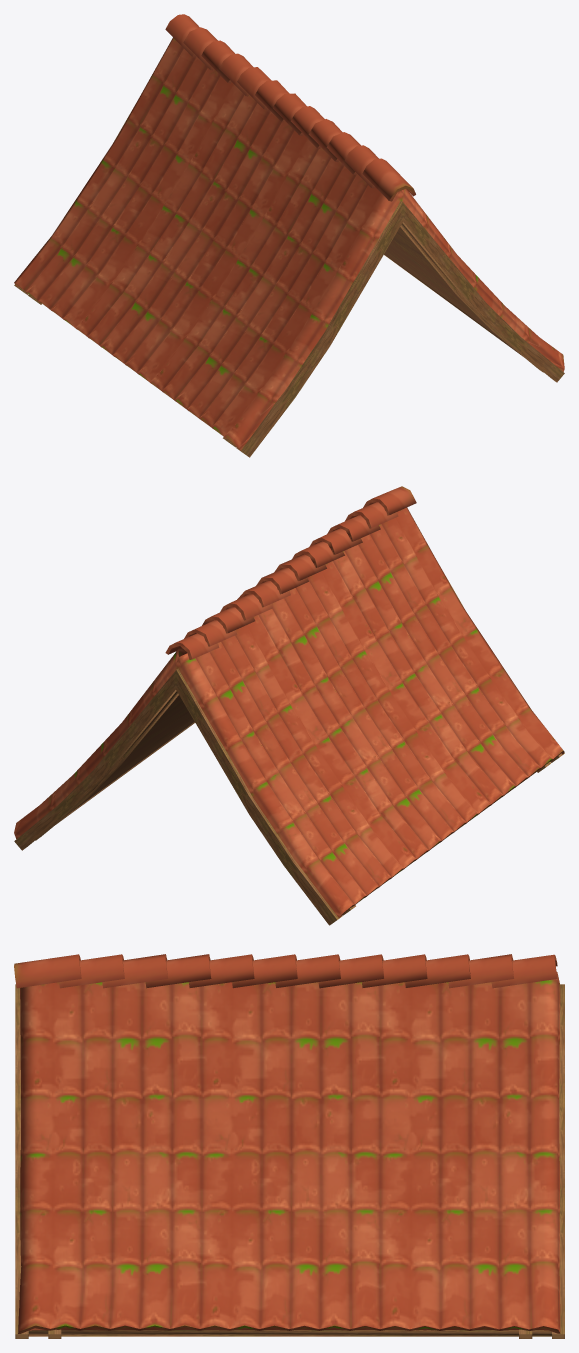
Rendered from Roof_RoundTiles_6x8.obj.
3 views of the same model, one above another, from view 1: azimuth 30°, elevation 25°; view 2: azimuth 150°, elevation 25°; view 3: azimuth 270°, elevation 25° (orthographic). The views are drawn at different scales.
Parts seen in each view (by area): view 1: Roof_RoundTiles_6x8; view 2: Roof_RoundTiles_6x8; view 3: Roof_RoundTiles_6x8.
Part boxes in pixels (box(x1,y1,x2,y2)): Roof_RoundTiles_6x8: box(14, 14, 564, 457); Roof_RoundTiles_6x8: box(14, 486, 564, 925); Roof_RoundTiles_6x8: box(14, 954, 564, 1338).
Size of the model in its own units: 8.25 by 5.67 by 9.68.
Materials: 2 (2 with a texture image).
